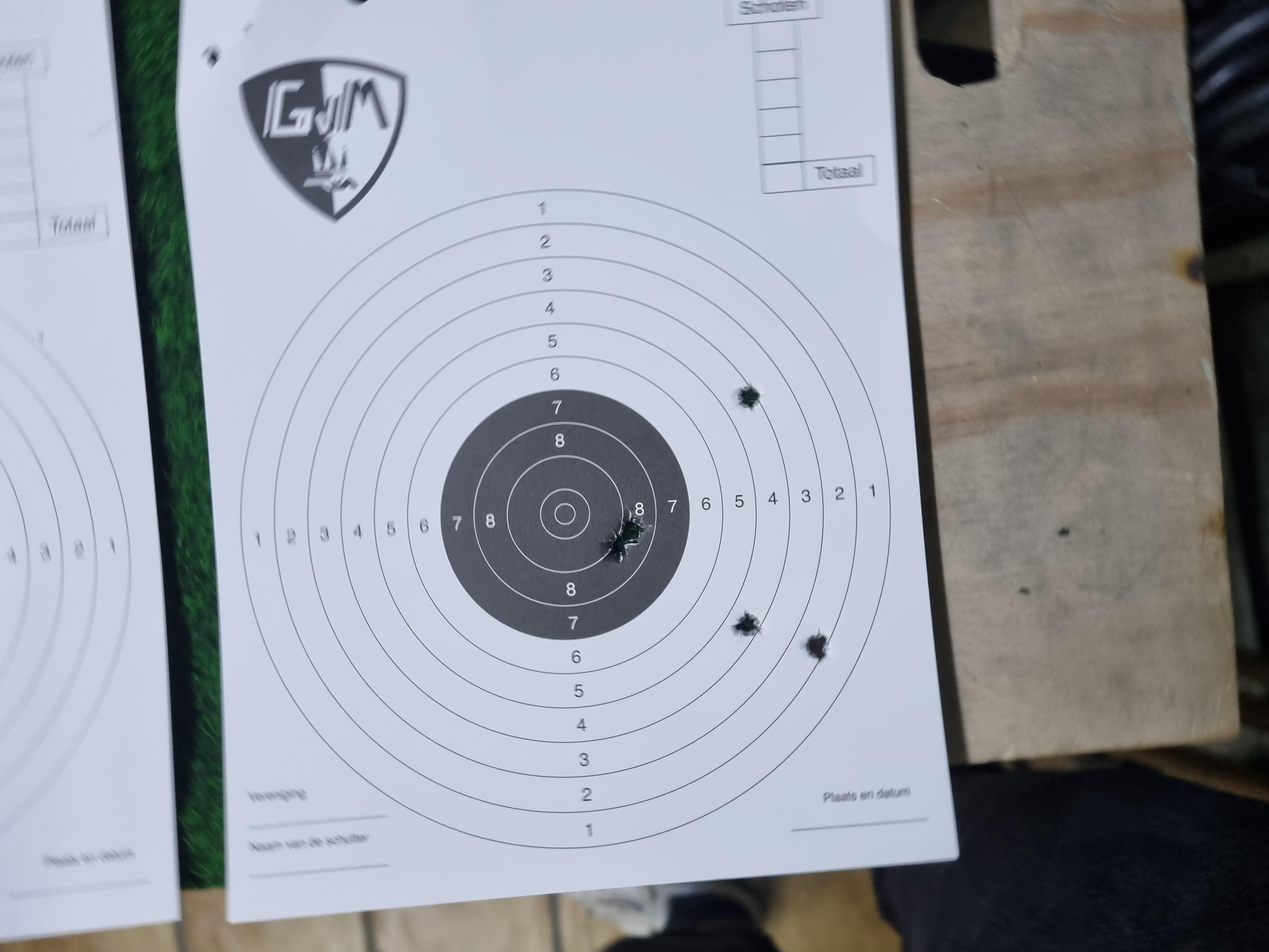hole: (545, 465, 589, 491), (518, 450, 558, 472), (420, 549, 455, 573), (386, 604, 431, 622), (720, 552, 760, 571)
